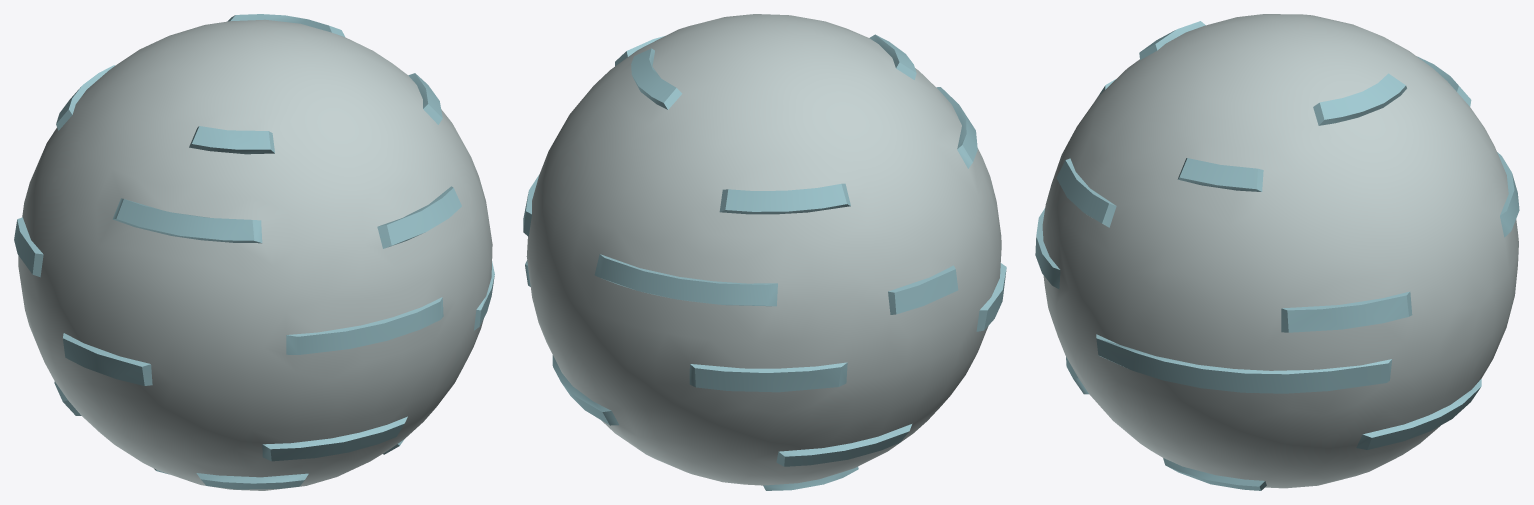
The model's file is planet_9.glb.
3 views of the same model, side by side, from view 1: azimuth 30°, elevation 25°; view 2: azimuth 150°, elevation 25°; view 3: azimuth 270°, elevation 25° (orthographic).
Parts seen in each view (by area): view 1: Planet_9; view 2: Planet_9; view 3: Planet_9.
Boxes of the visible parts, <box> form: Planet_9: <box>14,14,494,490</box>; Planet_9: <box>523,14,1006,490</box>; Planet_9: <box>1035,14,1519,490</box>.
Size of the model in its own units: 3.82 by 3.75 by 3.81.
Materials: 1 (1 with a texture image).
